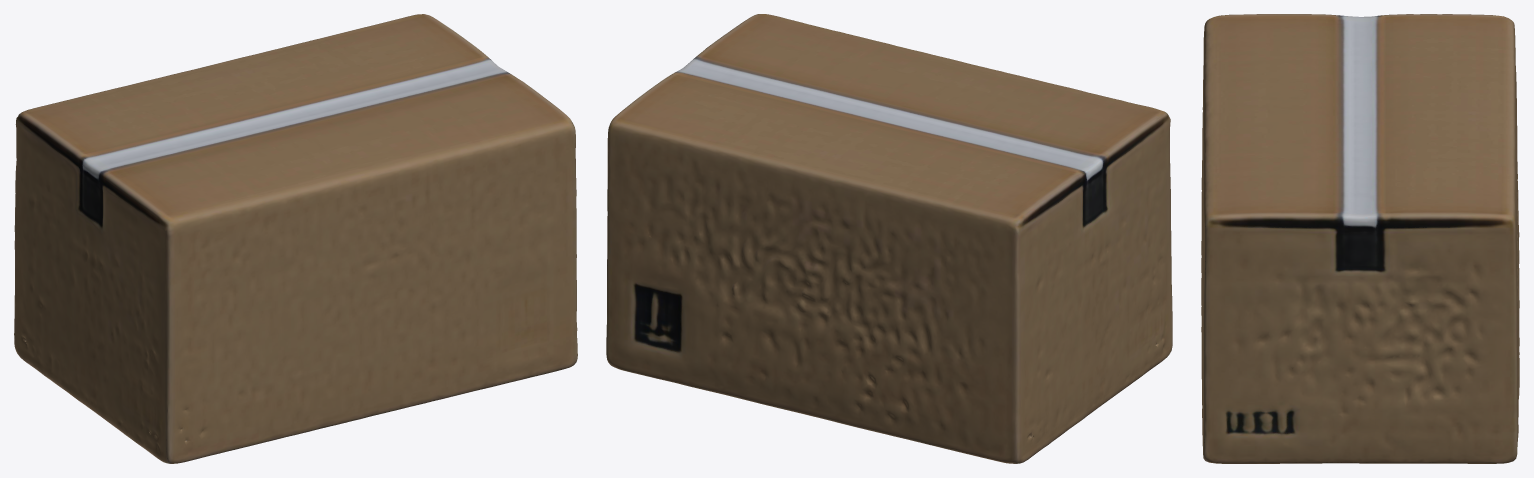
File: 70fd7d126a50_box__3d_asset_0_glb.fbx
3 views of the same model, side by side, from view 1: azimuth 30°, elevation 25°; view 2: azimuth 150°, elevation 25°; view 3: azimuth 270°, elevation 25° (orthographic).
Visible parts, largest first — view 1: high_poly; view 2: high_poly; view 3: high_poly.
Part boxes in pixels (x1,y1,x2,y2): high_poly: [14, 14, 577, 463]; high_poly: [606, 14, 1172, 463]; high_poly: [1201, 14, 1519, 463].
Bounding box in the file's own units: 100 × 56.78 × 65.6.
